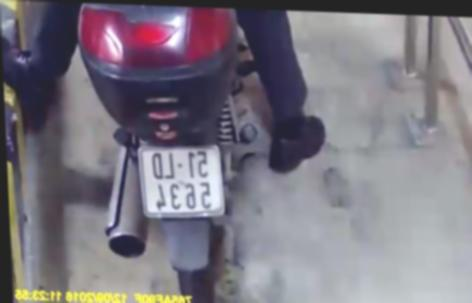License_Plate: (130, 139, 234, 222)
